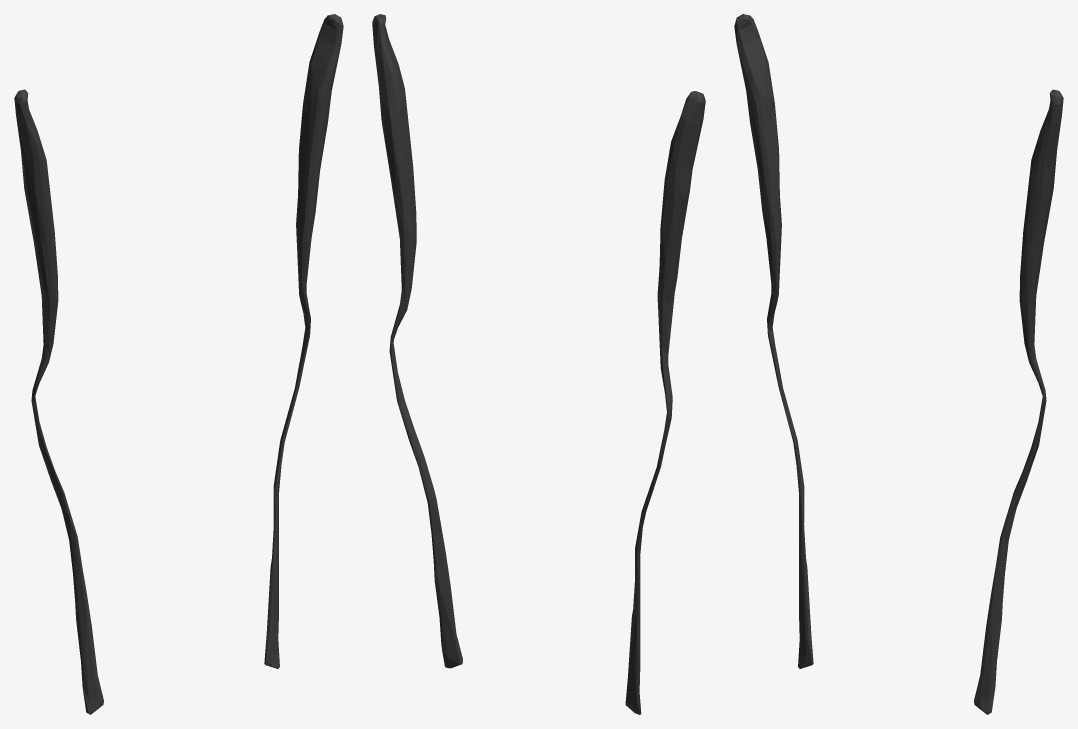
File: m_extensor_digitorum_lateralis_FL.glb
The picture shows the model from 3 angles, left to right: view 1: azimuth 30°, elevation 25°; view 2: azimuth 150°, elevation 25°; view 3: azimuth 330°, elevation 25°; orthographic projection.
Parts seen in each view (by area): view 1: m_extensor_digitorum_lateralis_FL; view 2: m_extensor_digitorum_lateralis_FL; view 3: m_extensor_digitorum_lateralis_FL.
Part boxes in pixels (<box>): m_extensor_digitorum_lateralis_FL: <box>14,14,343,714</box>; m_extensor_digitorum_lateralis_FL: <box>372,14,705,714</box>; m_extensor_digitorum_lateralis_FL: <box>734,14,1063,714</box>.
Size of the model in its own units: 0.00618 by 0.0115 by 0.000563.
1 material, 1 textured.
